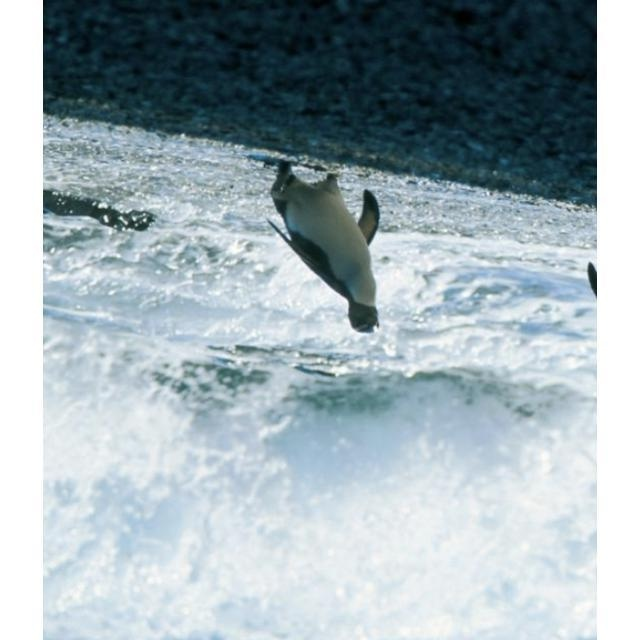penguin: (266, 158, 380, 334)
